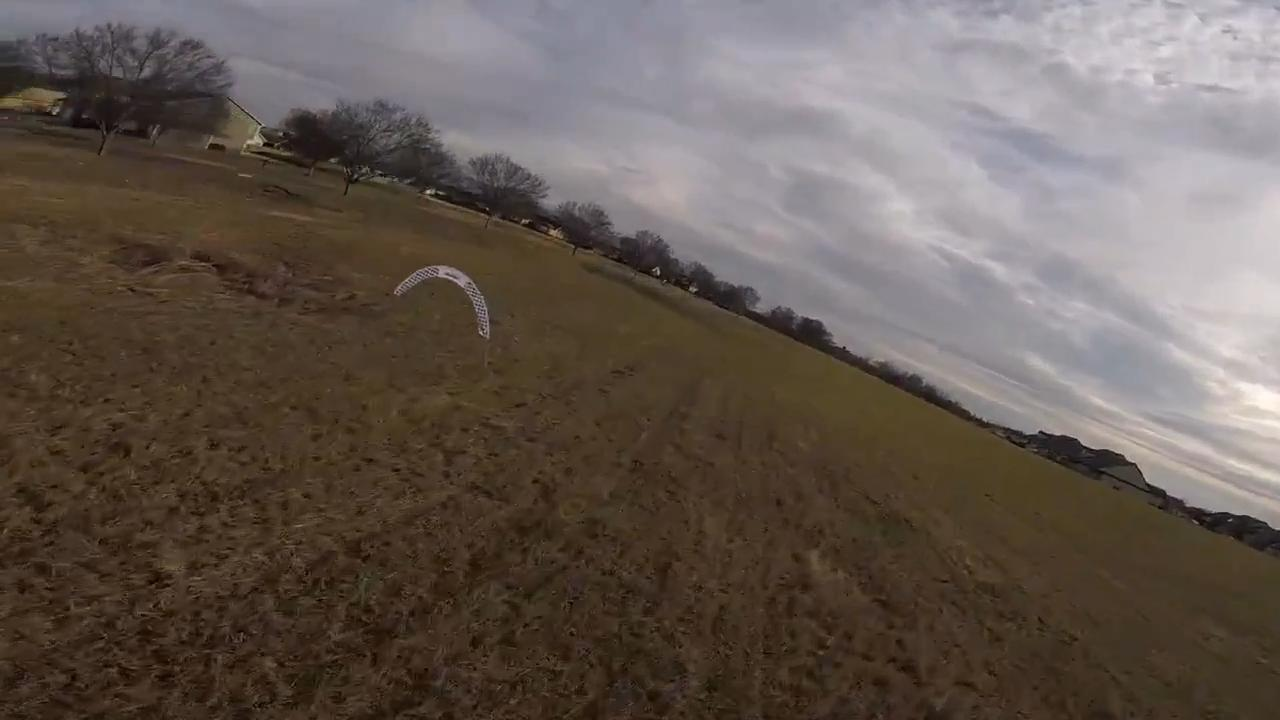gate: (391, 260, 491, 341)
